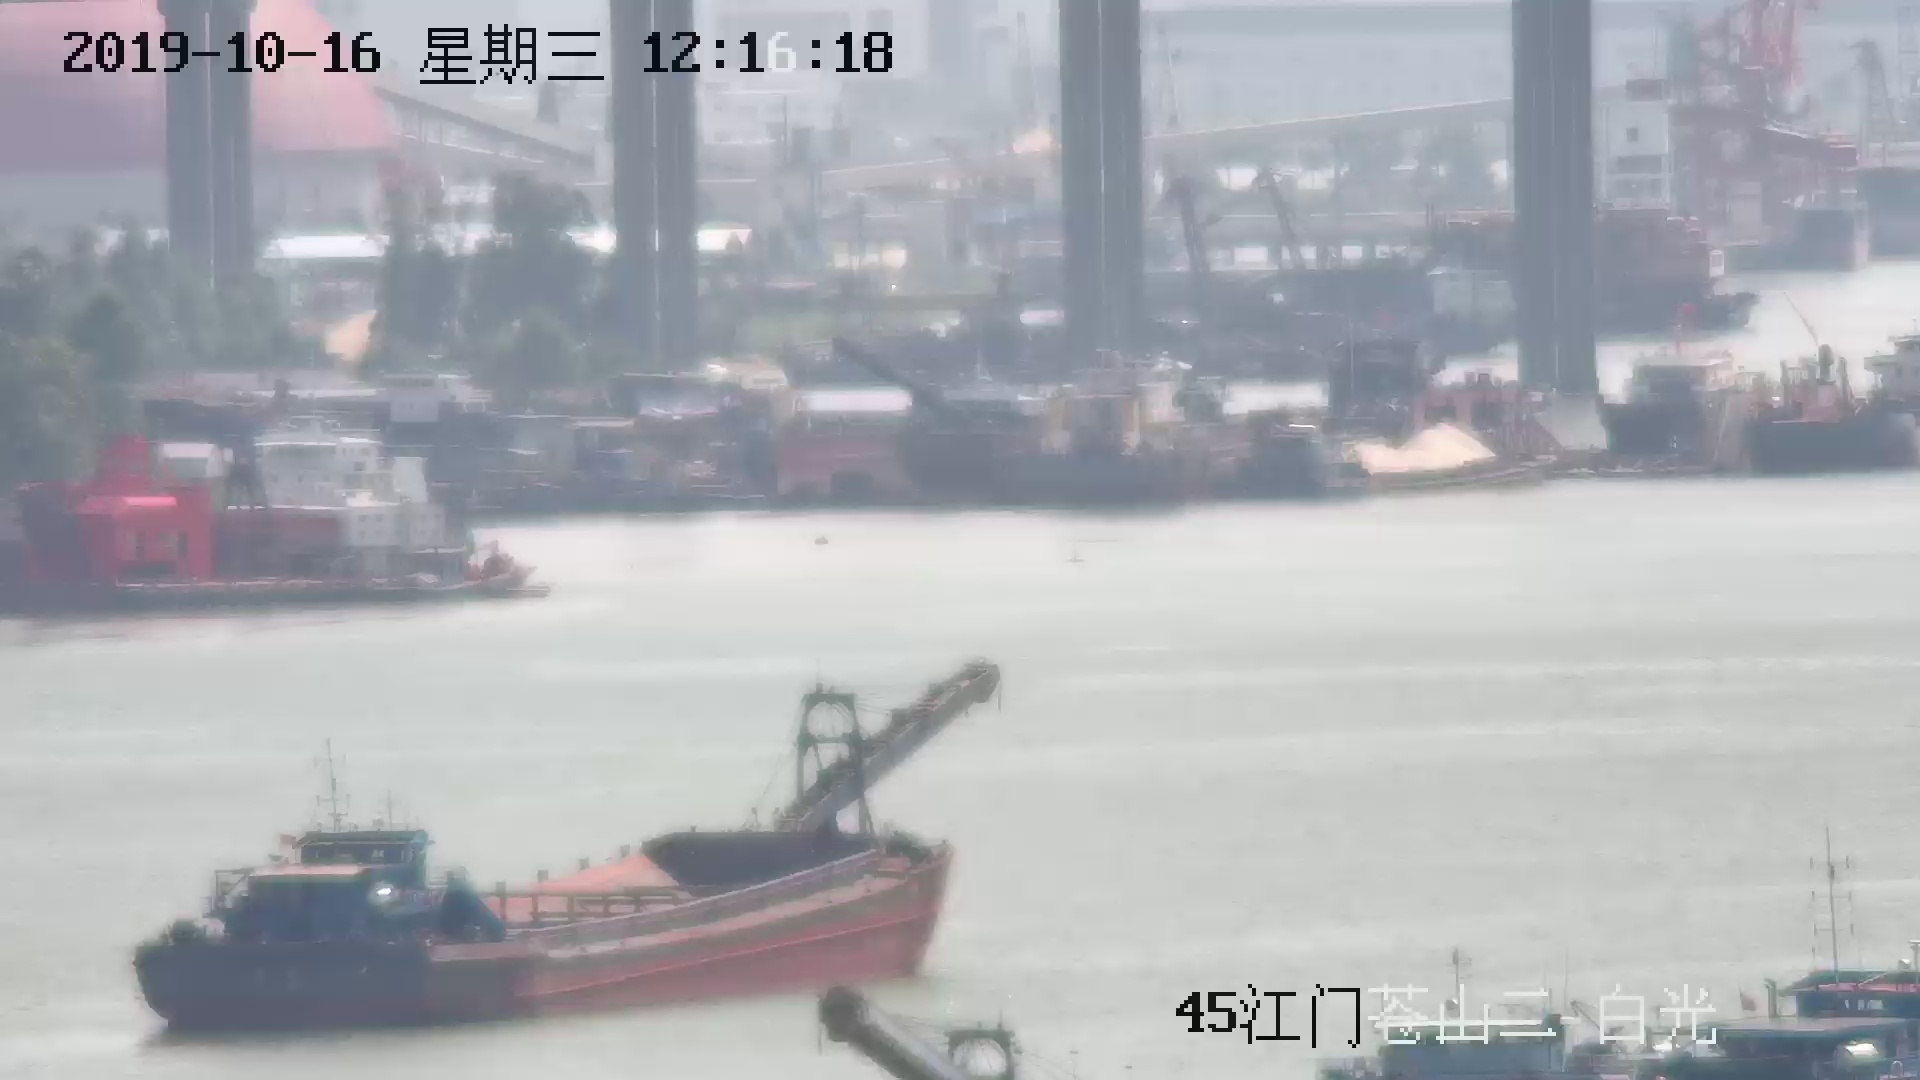ship: (121, 642, 1001, 1031)
